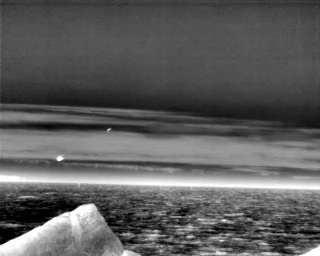HELICOPTER: (54, 153, 66, 165)
